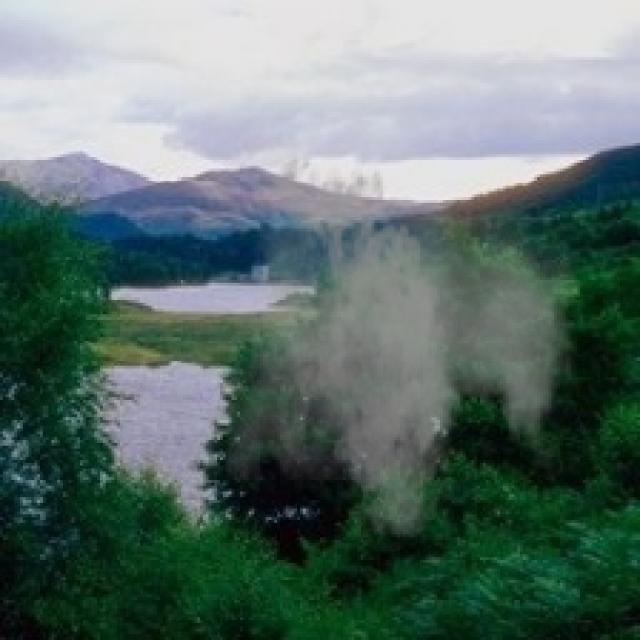smoke: (226, 143, 577, 554)
